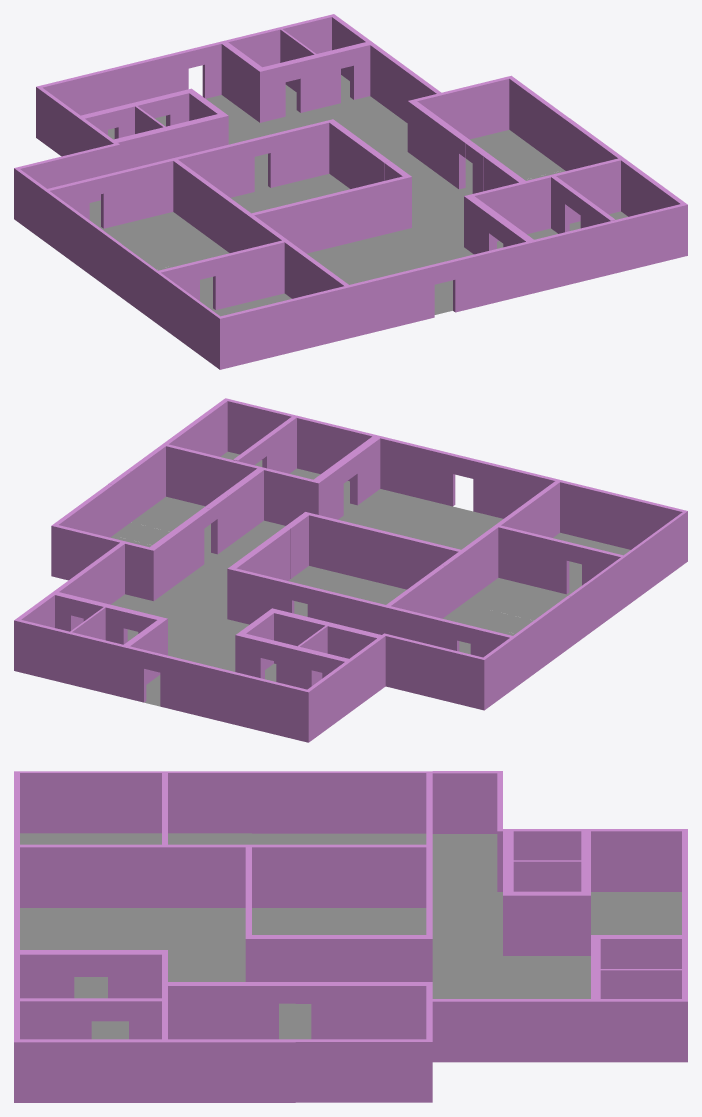
The model's file is nivell2.FBX.
3 renders of one model, top to bottom at view 1: azimuth 30°, elevation 25°; view 2: azimuth 150°, elevation 25°; view 3: azimuth 270°, elevation 25°, orthographic. The views are drawn at different scales.
Parts seen in each view (by area): view 1: Object013, Terra; view 2: Object013, Terra; view 3: Object013, Terra.
Part boxes in pixels (left/top/right/bottom): Object013: left=14, top=14, right=687, bottom=369; Terra: left=89, top=75, right=627, bottom=316; Object013: left=14, top=398, right=687, bottom=742; Terra: left=110, top=451, right=630, bottom=706; Object013: left=14, top=771, right=687, bottom=1102; Terra: left=20, top=833, right=681, bottom=1039.
Size of the model in its own units: 233 by 24.45 by 244.
